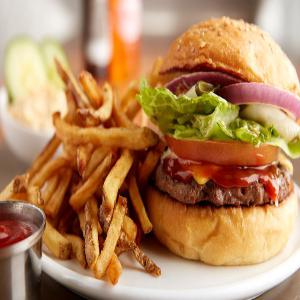cheeseburger: (156, 10, 299, 263)
fries: (24, 53, 150, 295)
